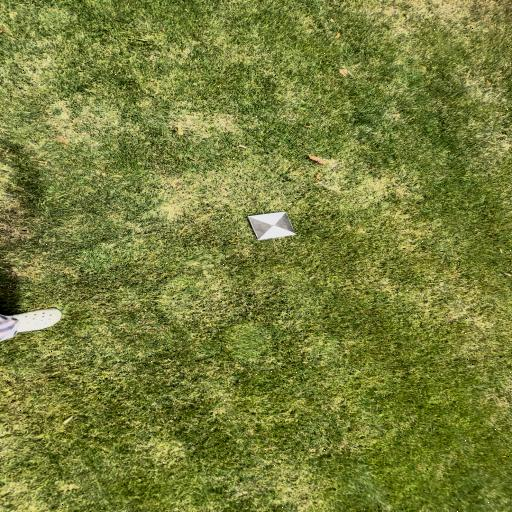target: (247, 212, 296, 240)
